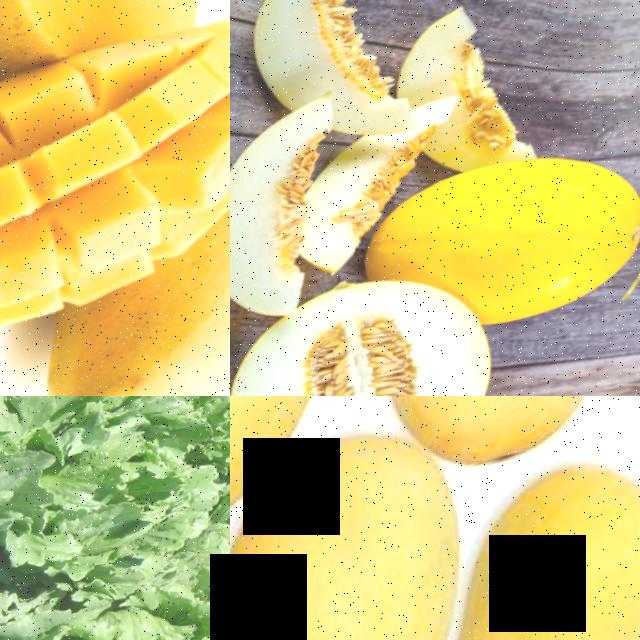lettuce: (21, 401, 162, 541), (173, 481, 230, 601)
mango: (230, 469, 486, 640), (456, 453, 640, 640), (29, 246, 230, 396), (386, 396, 640, 485), (0, 0, 163, 105)
melon: (456, 140, 640, 344), (230, 262, 506, 396), (230, 105, 355, 334), (301, 117, 461, 253), (233, 0, 381, 114), (392, 6, 493, 111)
